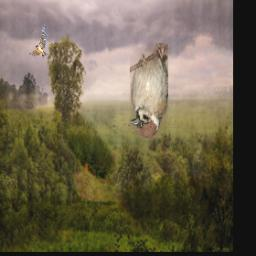Sparrow: (130, 44, 168, 139)
Swallow: (27, 25, 50, 59)
